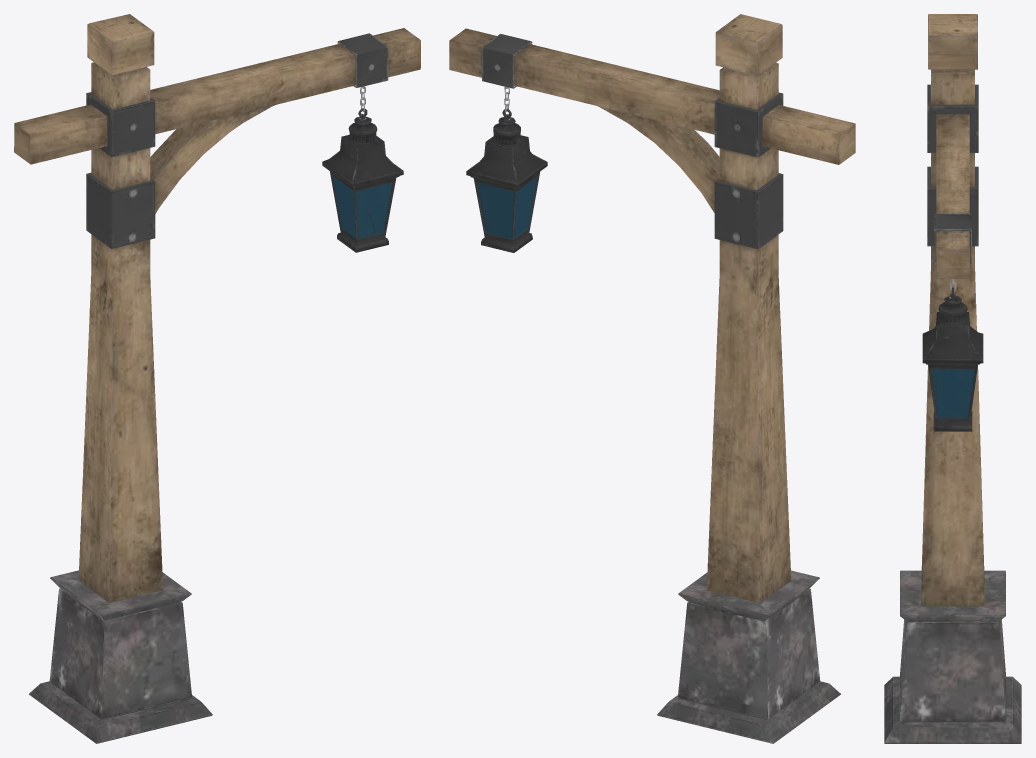
File: street-lantern.glb
The picture shows the model from 3 angles, left to right: view 1: azimuth 30°, elevation 25°; view 2: azimuth 150°, elevation 25°; view 3: azimuth 270°, elevation 25°; orthographic projection.
Visible parts, largest first — view 1: LanternPole_Body; view 2: LanternPole_Body; view 3: LanternPole_Body.
Part boxes in pixels (x1=…): LanternPole_Body: x1=14, y1=14, x2=420, y2=743; LanternPole_Body: x1=449, y1=14, x2=855, y2=743; LanternPole_Body: x1=884, y1=14, x2=1021, y2=743.
Size of the model in its own units: 15.49 by 25.66 by 4.63.
Materials: 1 (1 with a texture image).
